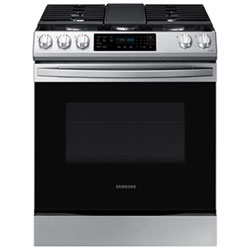stove: (20, 3, 224, 250)
